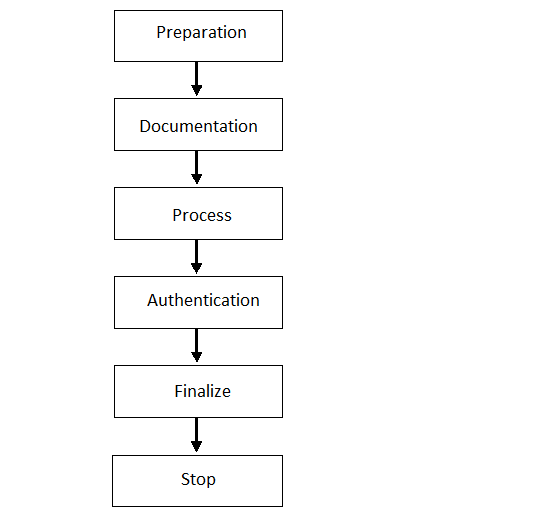arrow: (189, 238, 204, 275), (189, 149, 203, 185), (190, 62, 204, 96), (190, 416, 202, 454), (190, 327, 202, 363)
process: (111, 273, 287, 332), (112, 96, 287, 155), (111, 184, 285, 243), (110, 8, 286, 66), (112, 363, 287, 421), (108, 453, 286, 509)
text: (143, 289, 261, 309), (136, 118, 260, 135), (155, 25, 247, 43), (170, 207, 233, 225), (173, 383, 233, 400), (177, 469, 216, 490)
